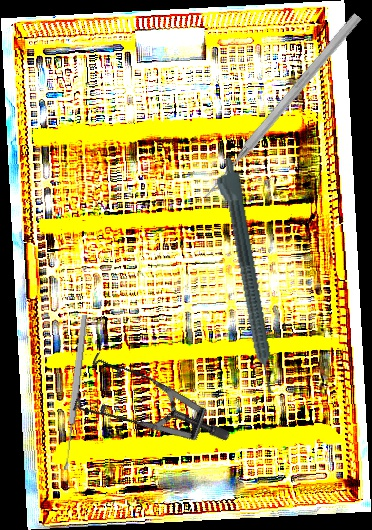Handpiece: (210, 156, 279, 397)
Pusher: (199, 10, 364, 203)
Speculum: (54, 318, 232, 503)
Surgical Spoon: (61, 314, 89, 471)
